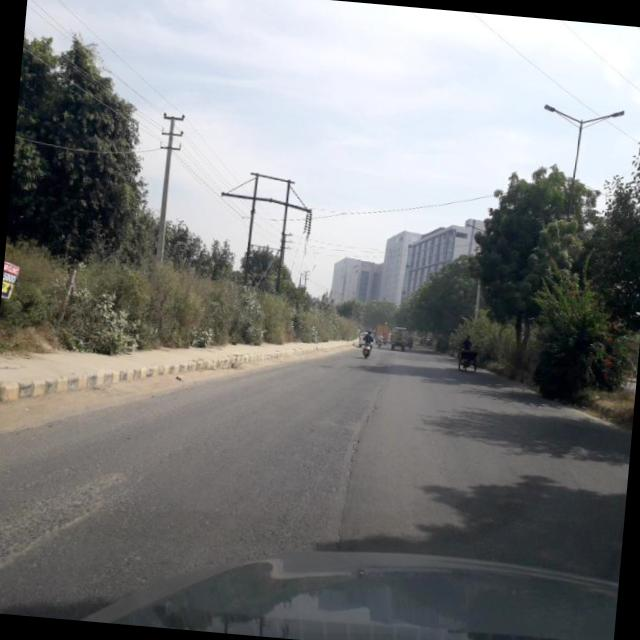crack: (331, 382, 383, 538)
